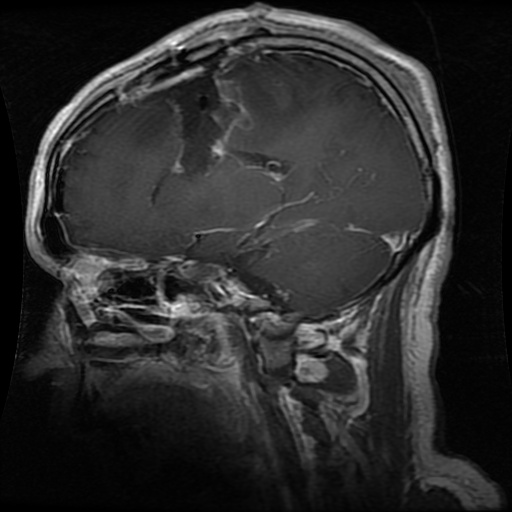glioma: (119, 48, 298, 179)
